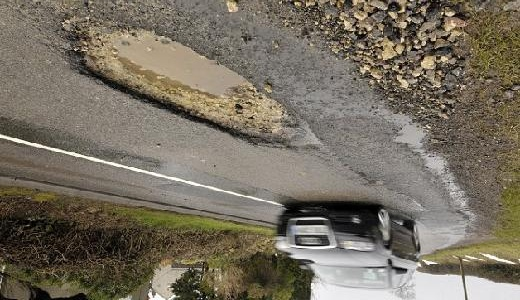pothole: (65, 27, 322, 150)
